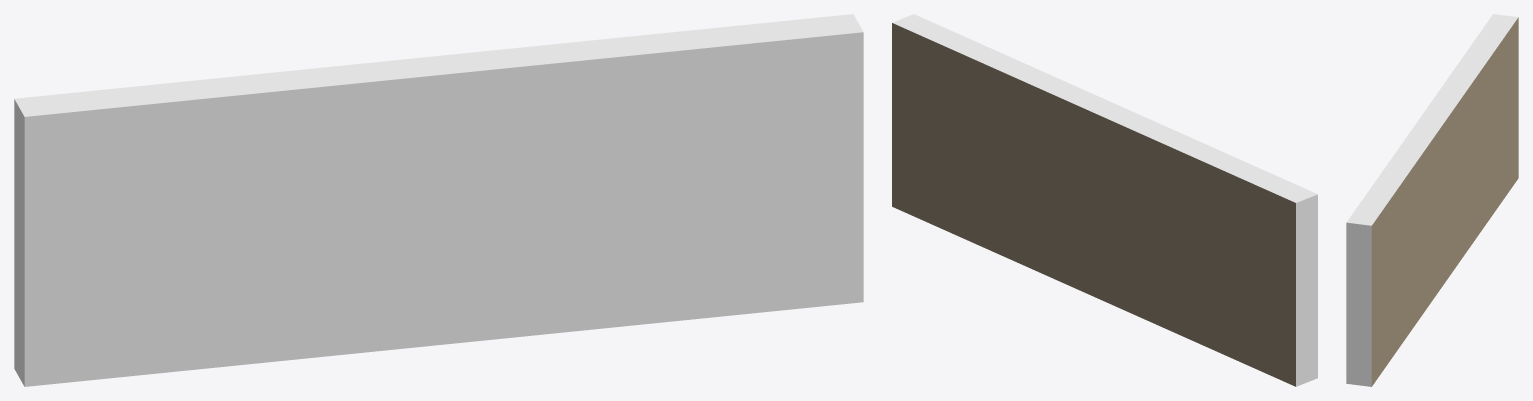
3 views of the same model, side by side, from view 1: azimuth 30°, elevation 25°; view 2: azimuth 150°, elevation 25°; view 3: azimuth 270°, elevation 25° (orthographic). The views are drawn at different scales.
Parts seen in each view (by area): view 1: Group1; view 2: Group1; view 3: Group1.
Part boxes in pixels (box(x1,y1,x2,y2)): Group1: box(14, 14, 863, 386); Group1: box(892, 14, 1317, 386); Group1: box(1346, 14, 1518, 386).
Bounding box in the file's own units: 231 × 81.96 × 79.32.
